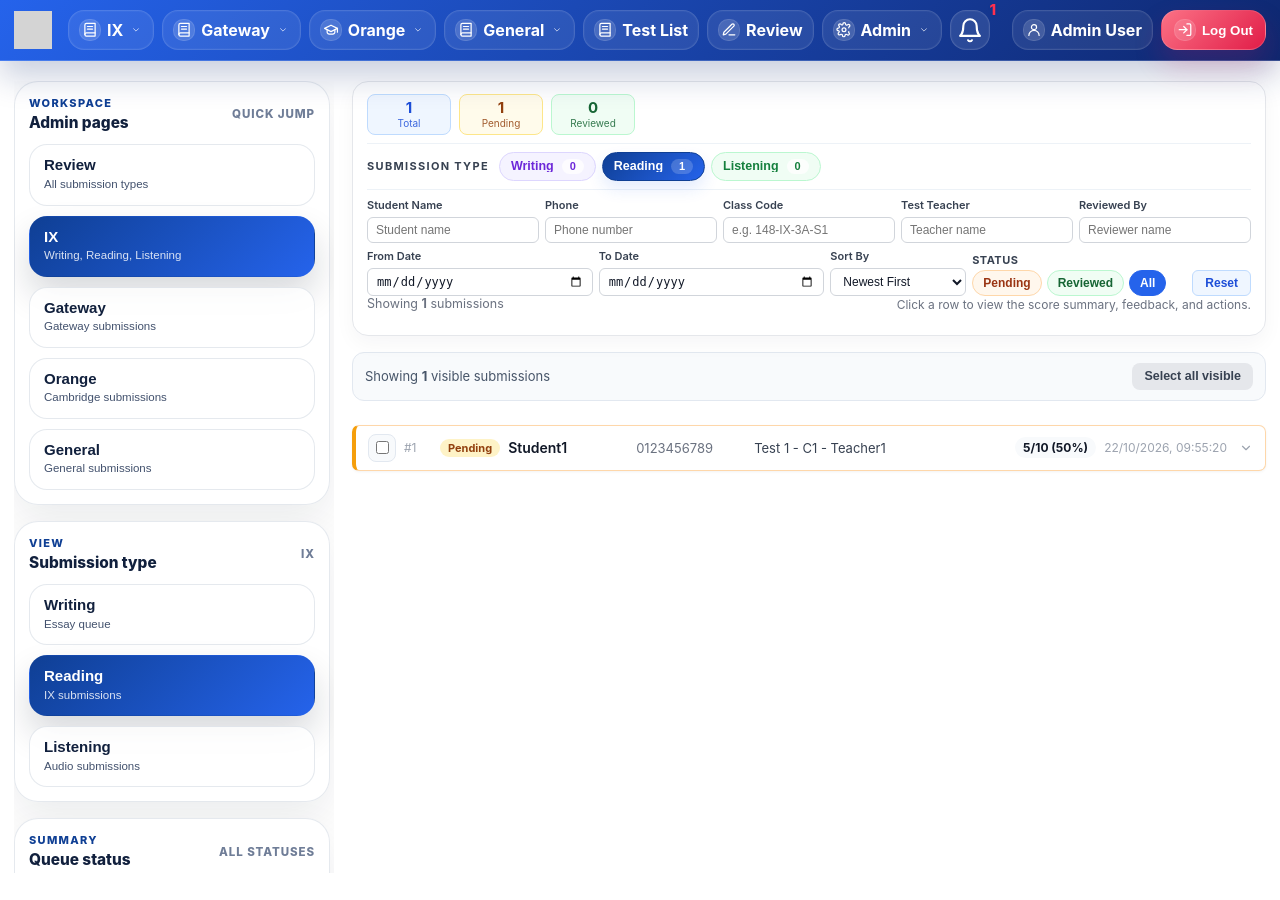
Test case: shows delete action to admins and removes a submission after confirmation
This screenshot has width=1280, height=900.
Click the text "Student1" at (538, 448), box [508,439,567,456]
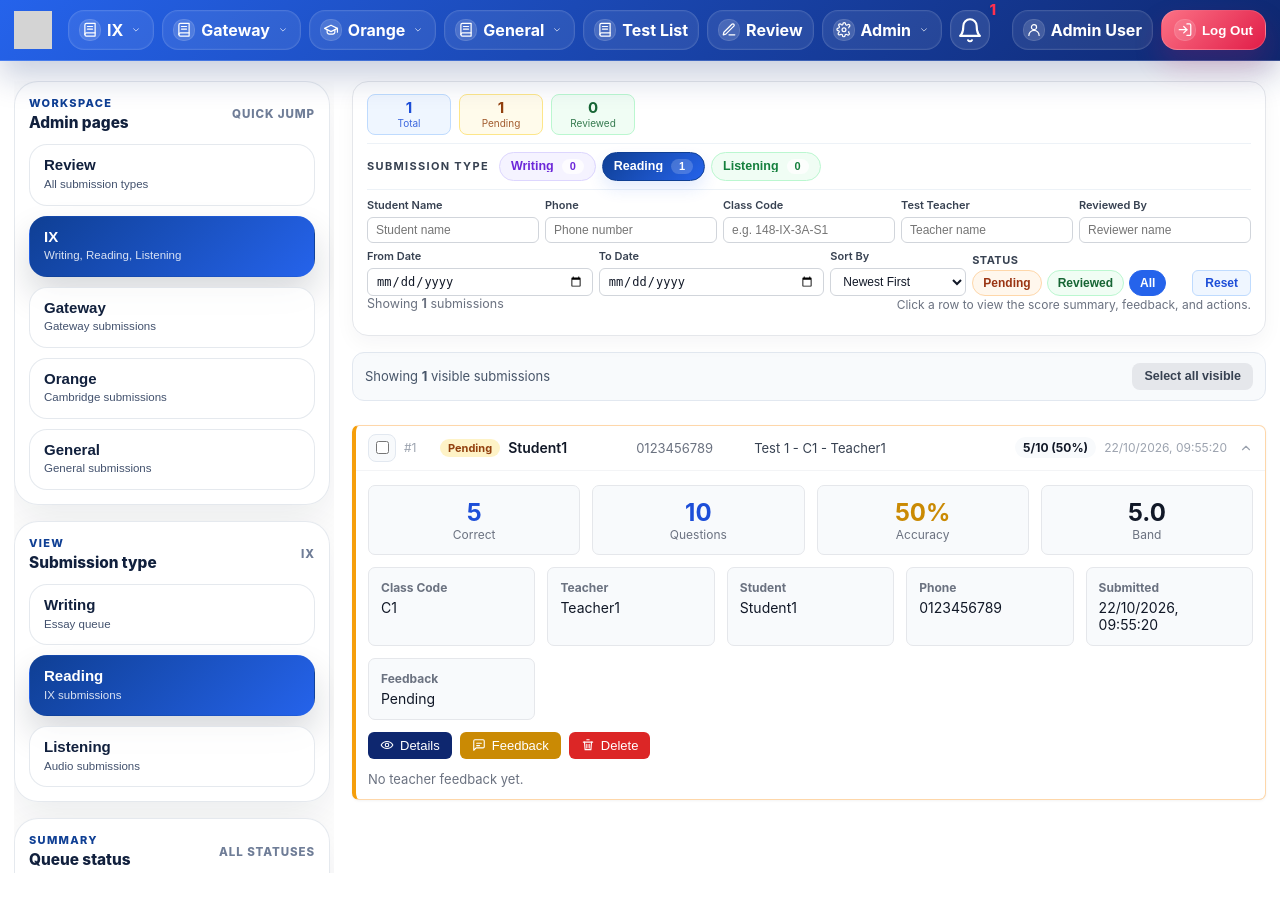
Click the button "Delete" at (610, 745), box [569,732,650,759]
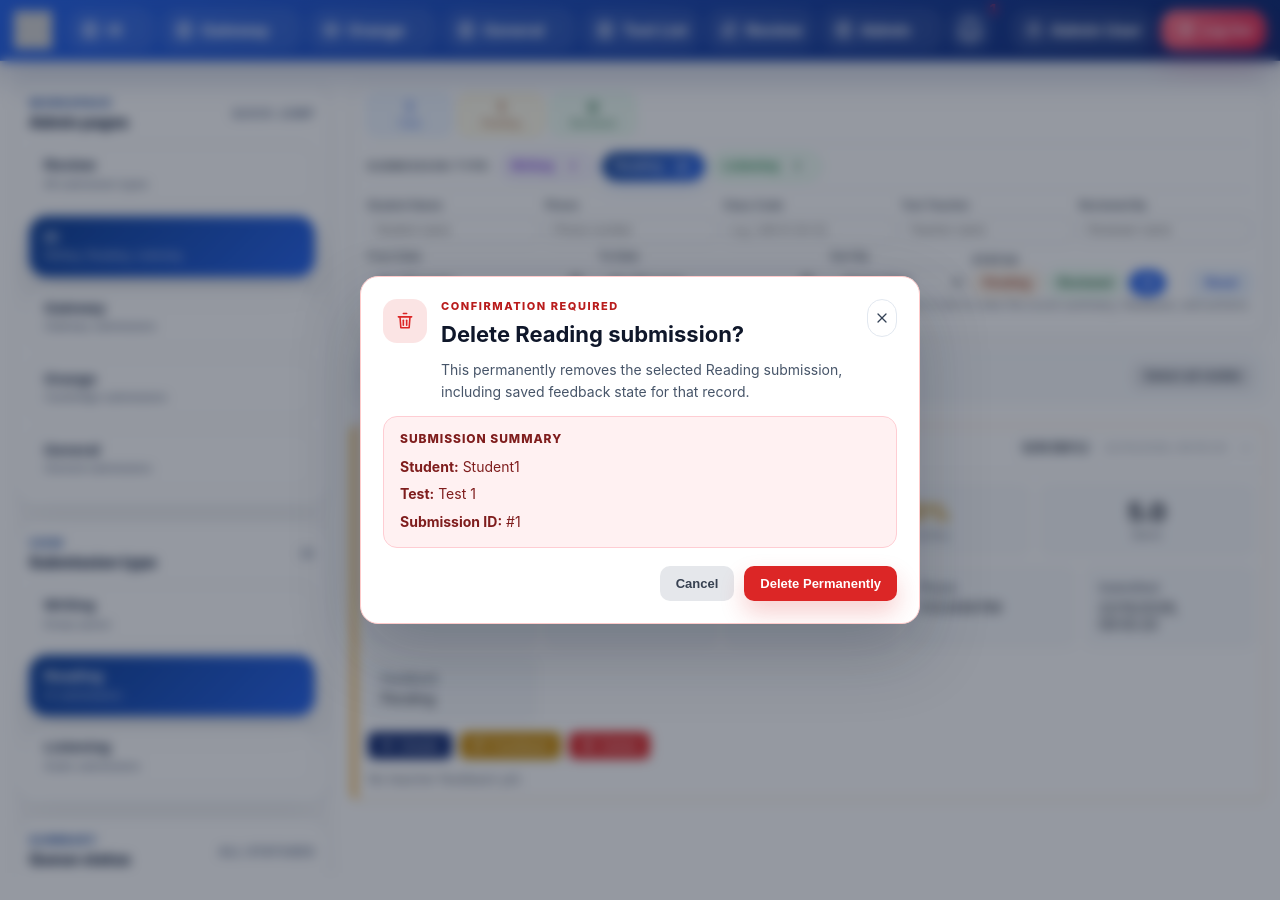
Click the button "Delete Permanently" at (821, 583), box [744,566,897,601]
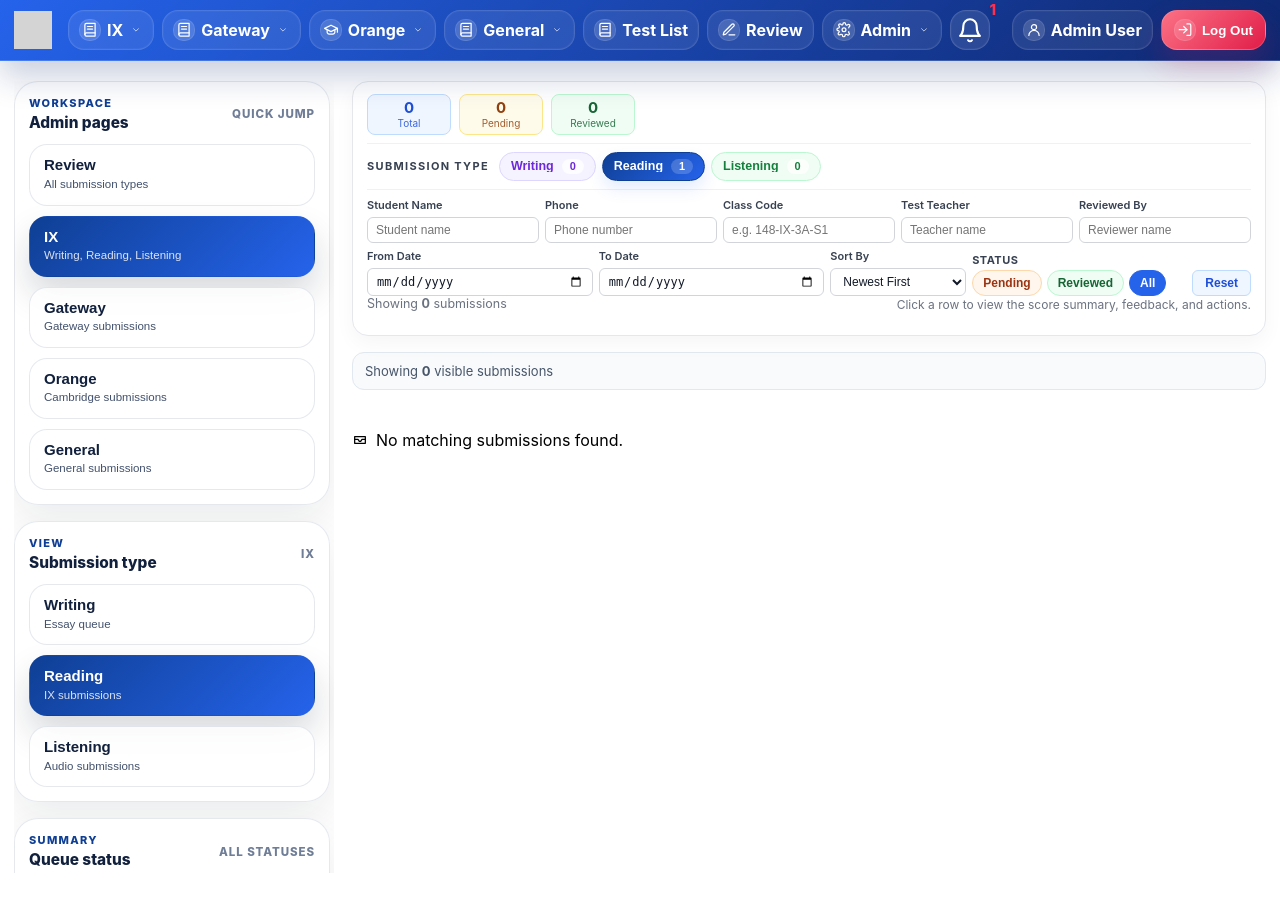
expect the text "Student1" is gone: met
